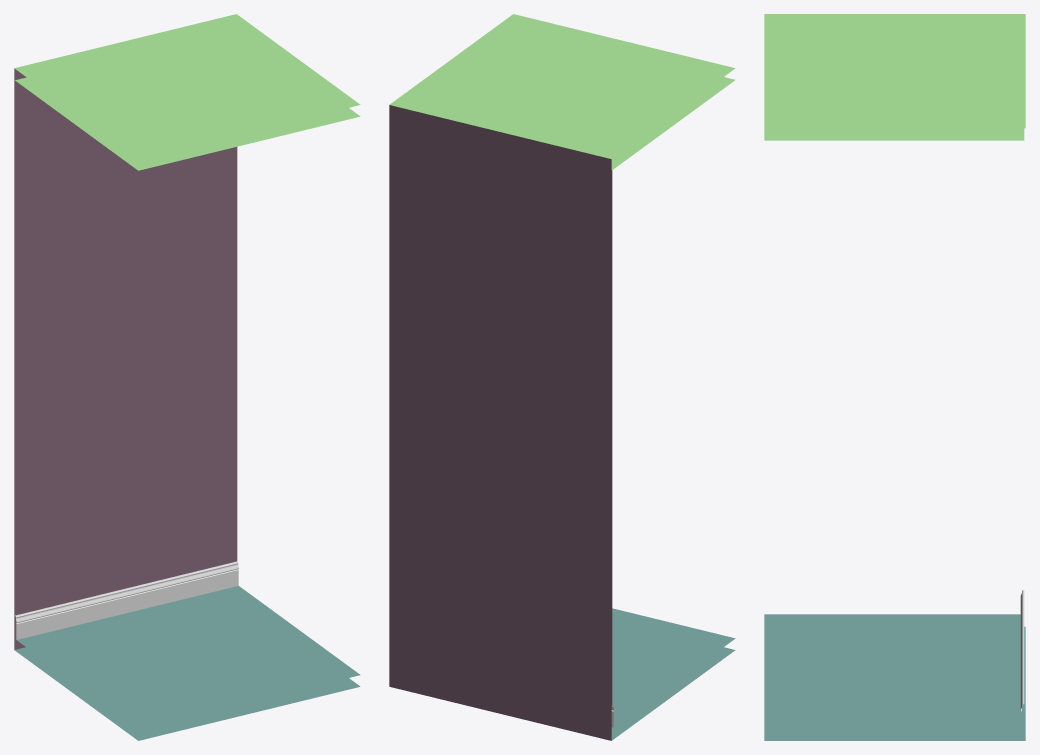
The model's file is Wall_1x1_side.fbx.
The picture shows the model from 3 angles, left to right: view 1: azimuth 30°, elevation 25°; view 2: azimuth 150°, elevation 25°; view 3: azimuth 270°, elevation 25°; orthographic projection. The views are drawn at different scales.
Visible parts, largest first — view 1: Wall_1x1_side; view 2: Wall_1x1_side; view 3: Wall_1x1_side.
Boxes of the visible parts, box(x1,y1,x2,y2) form: Wall_1x1_side: box(14, 14, 360, 740); Wall_1x1_side: box(389, 14, 735, 740); Wall_1x1_side: box(764, 14, 1025, 740).
Size of the model in its own units: 1 by 2.5 by 0.9675.
